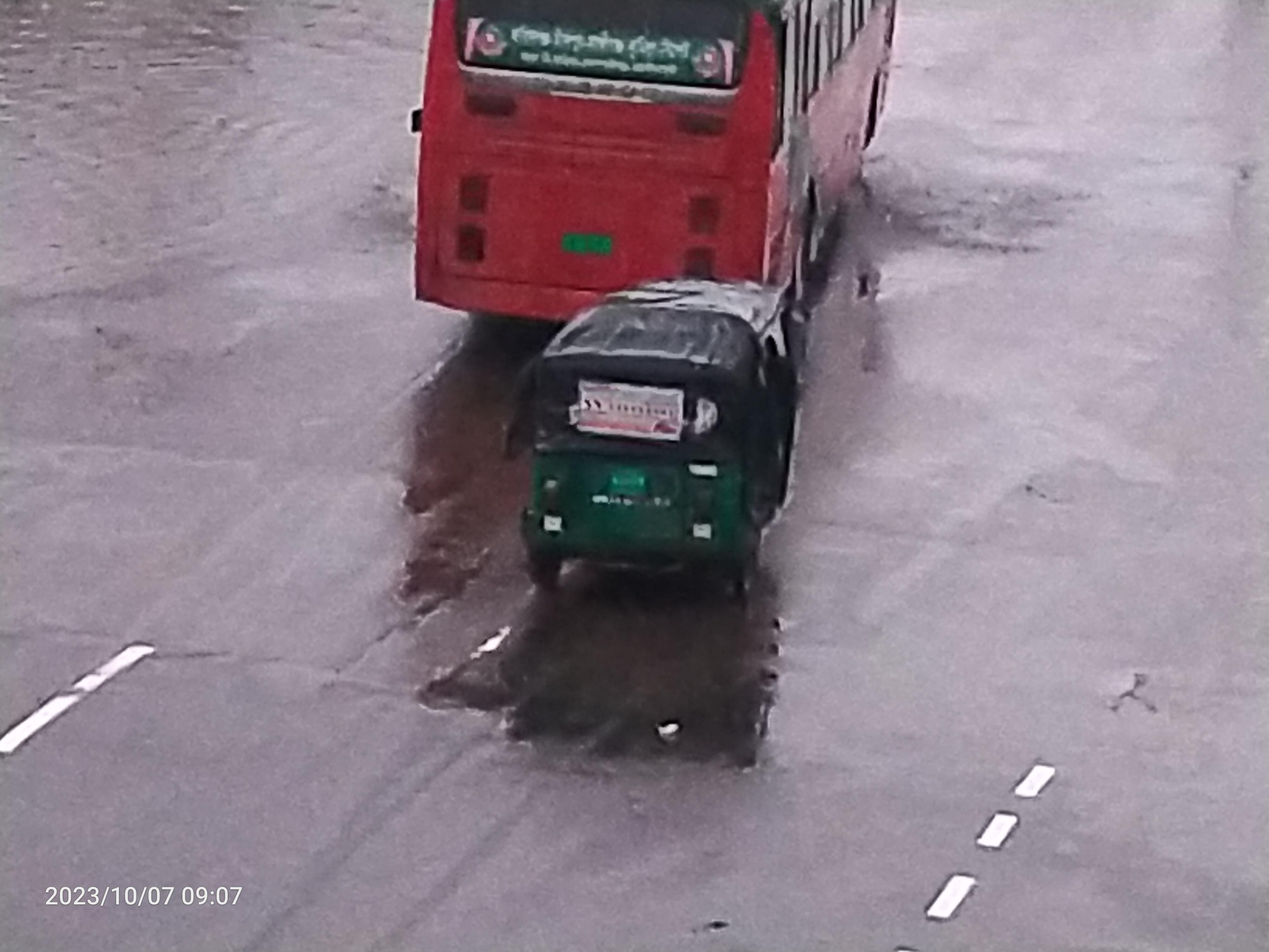Bus: (371, 0, 918, 349)
